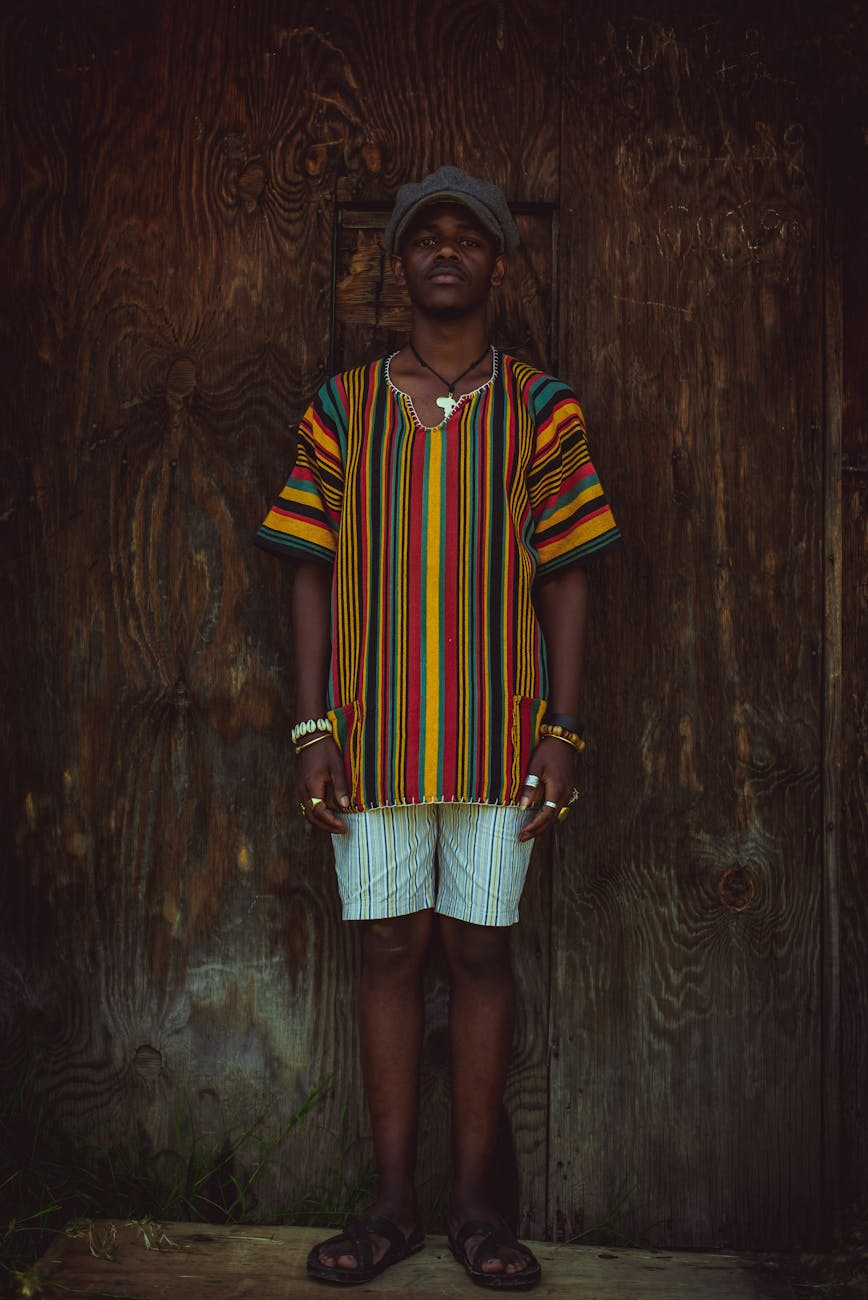opened_foot: (300, 1201, 433, 1289), (438, 1212, 545, 1295)
shorts: (309, 795, 563, 929)
